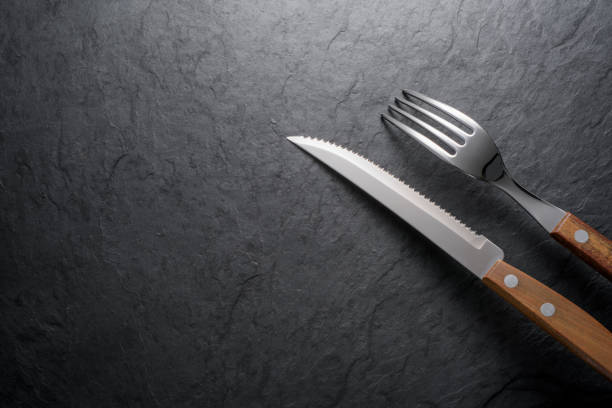knife: (283, 133, 612, 381)
